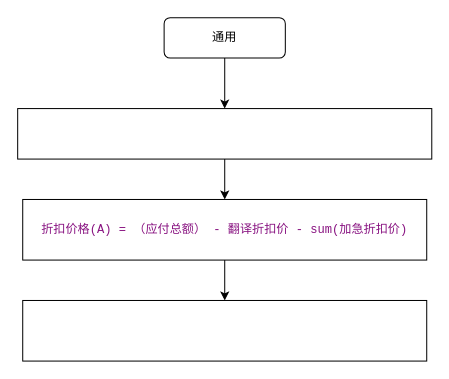
Some shapes in this 449 by 379 pixel diagram are drawn without their labels. The box of each missing label's shape, as (x1, y1, x2, y2) in pixels:
折扣优惠(D) = A - S: (22, 299, 427, 361)
调查项金额（原价）(S) = 数据项原价- sum(加急原价，未勾加急，默认0): (17, 108, 432, 159)
